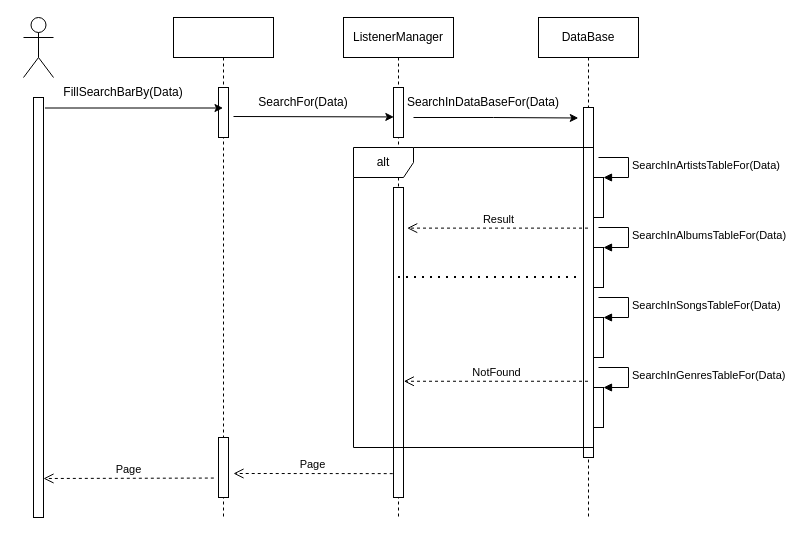
Image size: 804x535. Some labels were removed from this diagram. Here are the shapes that lost their labels. From the top down, the box of each, then its label:
(22, 16, 54, 78): Listener
(172, 16, 274, 518): ListenerInterface
